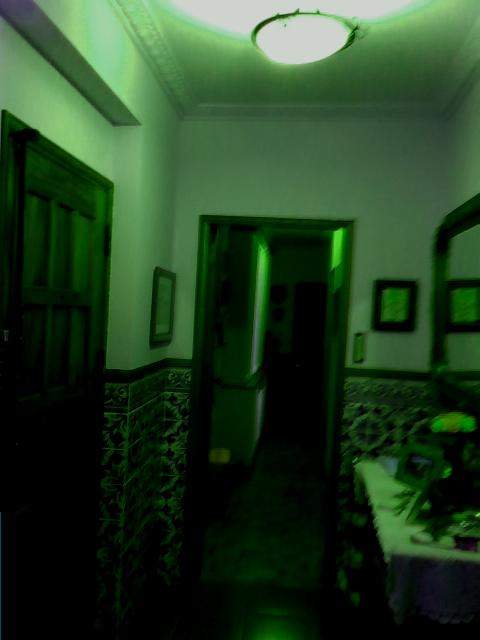open_door: (181, 214, 357, 602)
